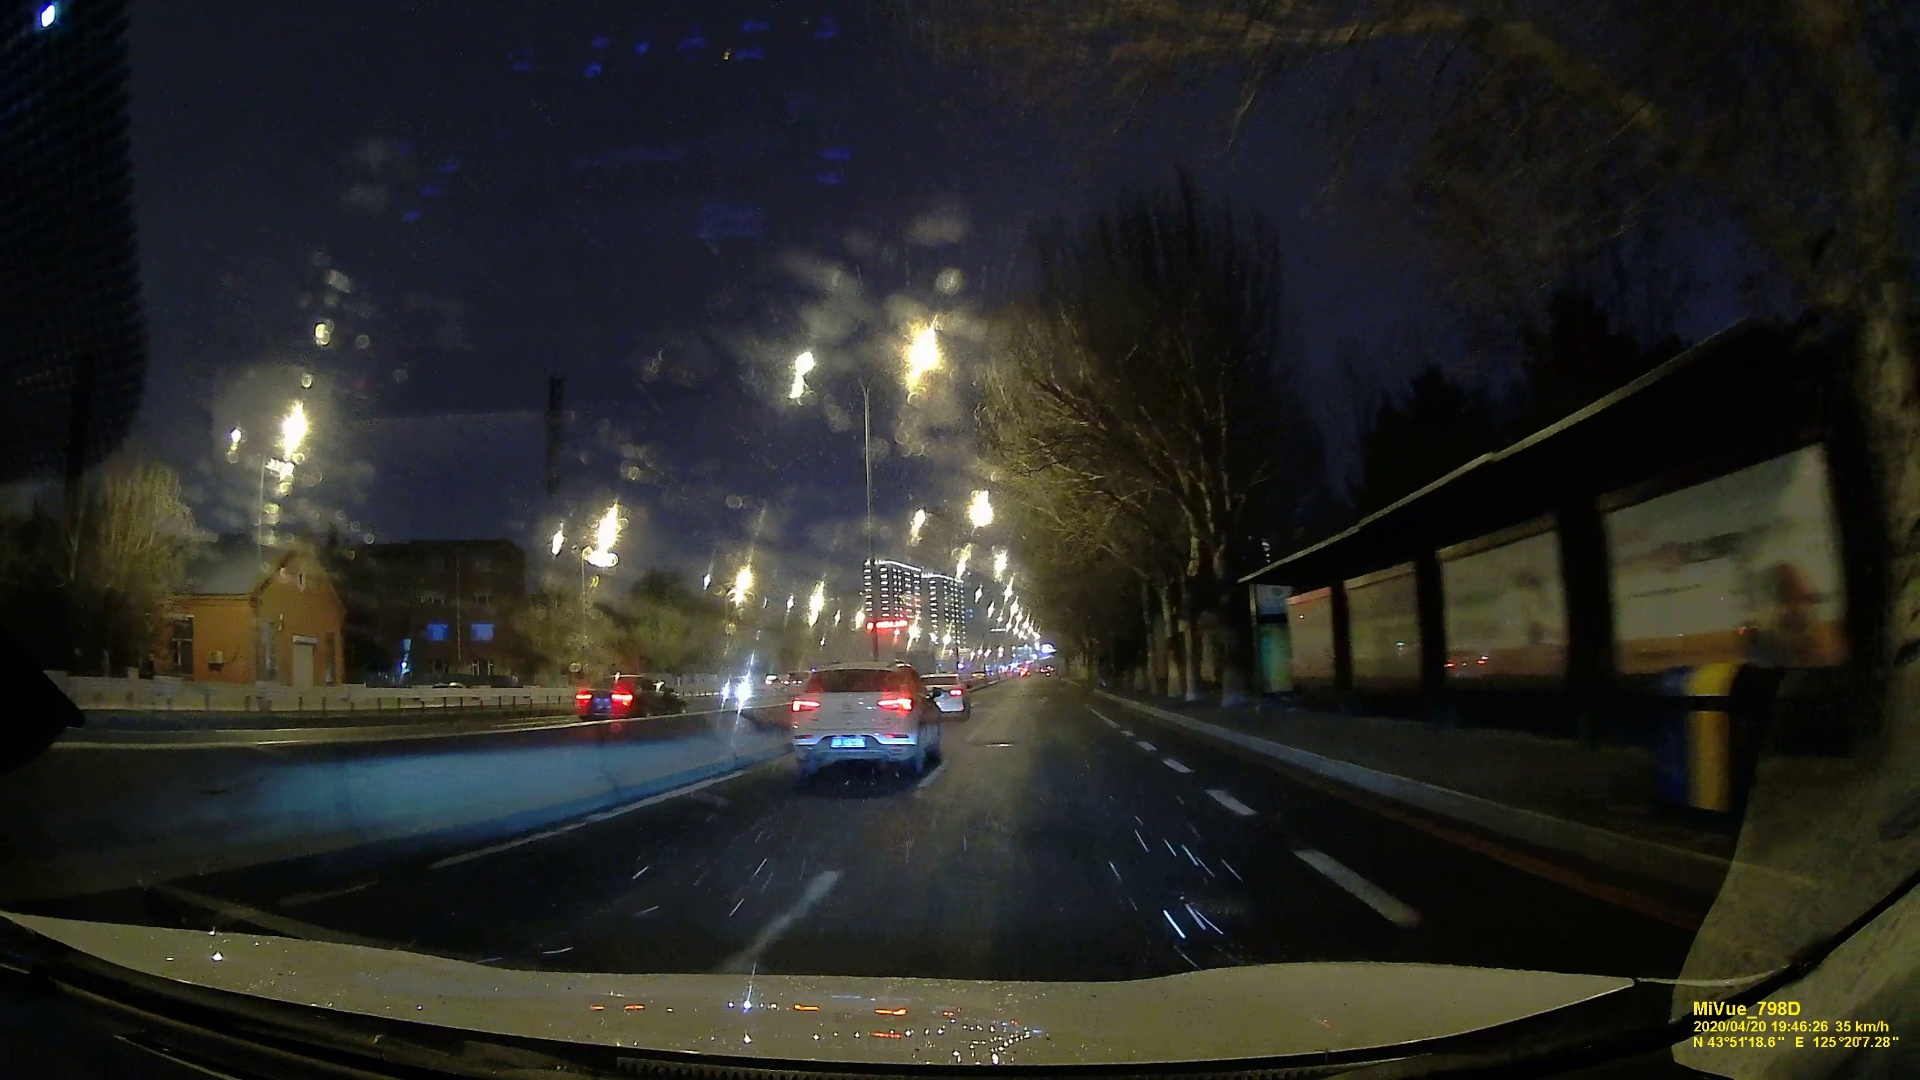vehicle: (783, 659, 942, 775), (572, 676, 682, 713)
